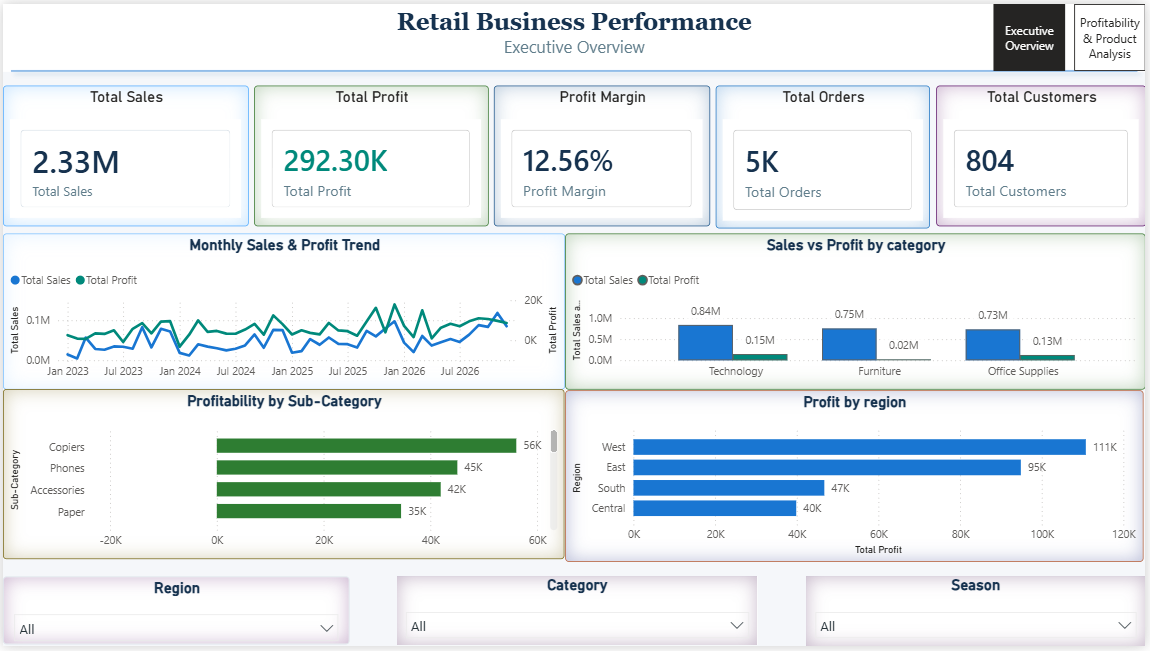

What the dashboard file says about the page in this screenshot:
{"tool":"powerbi","page":{"name":"Executive Overview","canvas":[1280,720],"ordinal":0},"visuals":[{"type":"cardVisual","title":"Total Sales","fields":{"Data":["orders.Total Sales"]},"box":[0,91.4,275,157.5],"z":0},{"type":"cardVisual","title":"Total Profit","fields":{"Data":["orders.Total Profit"]},"box":[281.2,91.4,262.5,157.5],"z":1000},{"type":"cardVisual","title":"Profit Margin","fields":{"Data":["orders.Profit Margin"]},"box":[550,91.4,242.5,157.5],"z":2000},{"type":"cardVisual","title":"Total Orders","fields":{"Data":["orders.Total Orders"]},"box":[798.8,91.4,240,160],"z":3000},{"type":"cardVisual","title":"Total Customers","fields":{"Data":["orders.Total Customers"]},"box":[1045,91.4,235,157.5],"z":4000},{"type":"lineChart","title":"Monthly Sales & Profit Trend","fields":{"Y":["orders.Total Sales"],"Y2":["orders.Total Profit"],"Category":["orders.Order Date.Variation.Date Hierarchy.Year","orders.Order Date.Variation.Date Hierarchy.Quarter","orders.Order Date.Variation.Date Hierarchy.Month"]},"box":[0,257.5,630,175],"z":5000},{"type":"lineClusteredColumnComboChart","title":"Sales vs Profit by category","fields":{"Category":["orders.Category"],"Y":["orders.Total Sales","orders.Total Profit"]},"box":[630,257.5,650,175],"z":6000},{"type":"clusteredBarChart","title":"Profitability by Sub-Category","fields":{"Category":["orders.Sub-Category"],"Y":["orders.Total Profit"]},"box":[0,431.7,629.3,190.2],"z":7000},{"type":"clusteredBarChart","title":"Profit by region","fields":{"Category":["orders.Region"],"Y":["orders.Total Profit"]},"box":[630,432.5,647.5,192.5],"z":8000},{"type":"slicer","title":"Region","fields":{"Values":["orders.Region"]},"box":[0,641.4,388.6,75.7],"z":9000},{"type":"slicer","title":"Category","fields":{"Values":["orders.Category"]},"box":[442.1,641.4,404.3,77.1],"z":10000},{"type":"slicer","title":"Season","fields":{"Values":["orders.Season"]},"box":[900,641.4,380,78.6],"z":11000},{"type":"textbox","box":[0,0,1280,75.7],"z":12000},{"type":"shape","box":[0,0,1280,150],"z":13000},{"type":"pageNavigator","box":[1110,0,170,75],"z":14000}]}

Visuals, with their boxes in screenshot pixels (x1, y1, x2, y2), scaled from the page's 1280x720 canvas onto the 1150x651 screenshot:
"Total Sales" cardVisual: detection(0, 83, 247, 225)
"Total Profit" cardVisual: detection(253, 83, 488, 225)
"Profit Margin" cardVisual: detection(494, 83, 712, 225)
"Total Orders" cardVisual: detection(718, 83, 933, 227)
"Total Customers" cardVisual: detection(939, 83, 1149, 225)
"Monthly Sales & Profit Trend" lineChart: detection(0, 233, 566, 391)
"Sales vs Profit by category" lineClusteredColumnComboChart: detection(566, 233, 1149, 391)
"Profitability by Sub-Category" clusteredBarChart: detection(0, 390, 565, 562)
"Profit by region" clusteredBarChart: detection(566, 391, 1148, 565)
"Region" slicer: detection(0, 580, 349, 648)
"Category" slicer: detection(397, 580, 760, 650)
"Season" slicer: detection(809, 580, 1149, 650)
textbox: detection(0, 0, 1149, 68)
shape: detection(0, 0, 1149, 136)
pageNavigator: detection(997, 0, 1149, 68)
